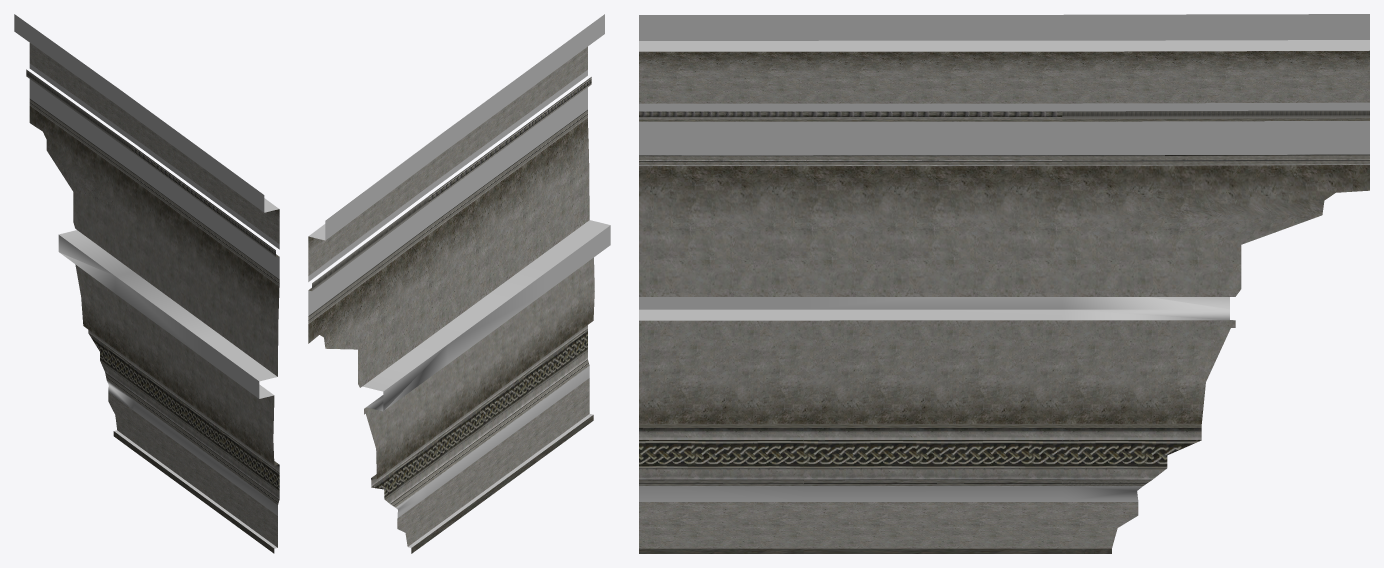
Rendered from DWARF_PALACE_MAINHALL_ENTRENCE02.obj.
3 renders of one model, left to right at view 1: azimuth 30°, elevation 25°; view 2: azimuth 150°, elevation 25°; view 3: azimuth 270°, elevation 25°, orthographic. The views are drawn at different scales.
Visible parts, largest first — view 1: hall_entrence02; view 2: hall_entrence02; view 3: hall_entrence02.
Boxes of the visible parts, x1,y1,x2,y2 form: hall_entrence02: [14, 14, 279, 553]; hall_entrence02: [308, 14, 610, 553]; hall_entrence02: [639, 14, 1369, 553].
Size of the model in its own units: 120 by 2050 by 2554.
